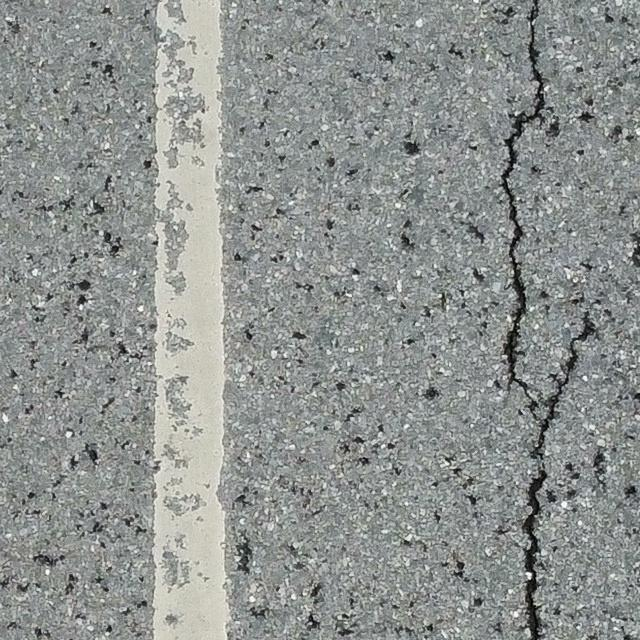LongitudinalCrack: (521, 315, 596, 640), (494, 1, 547, 397)
